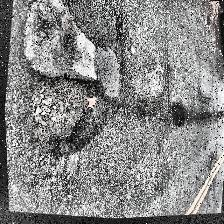pothole: (17, 69, 113, 164), (164, 103, 188, 132)
